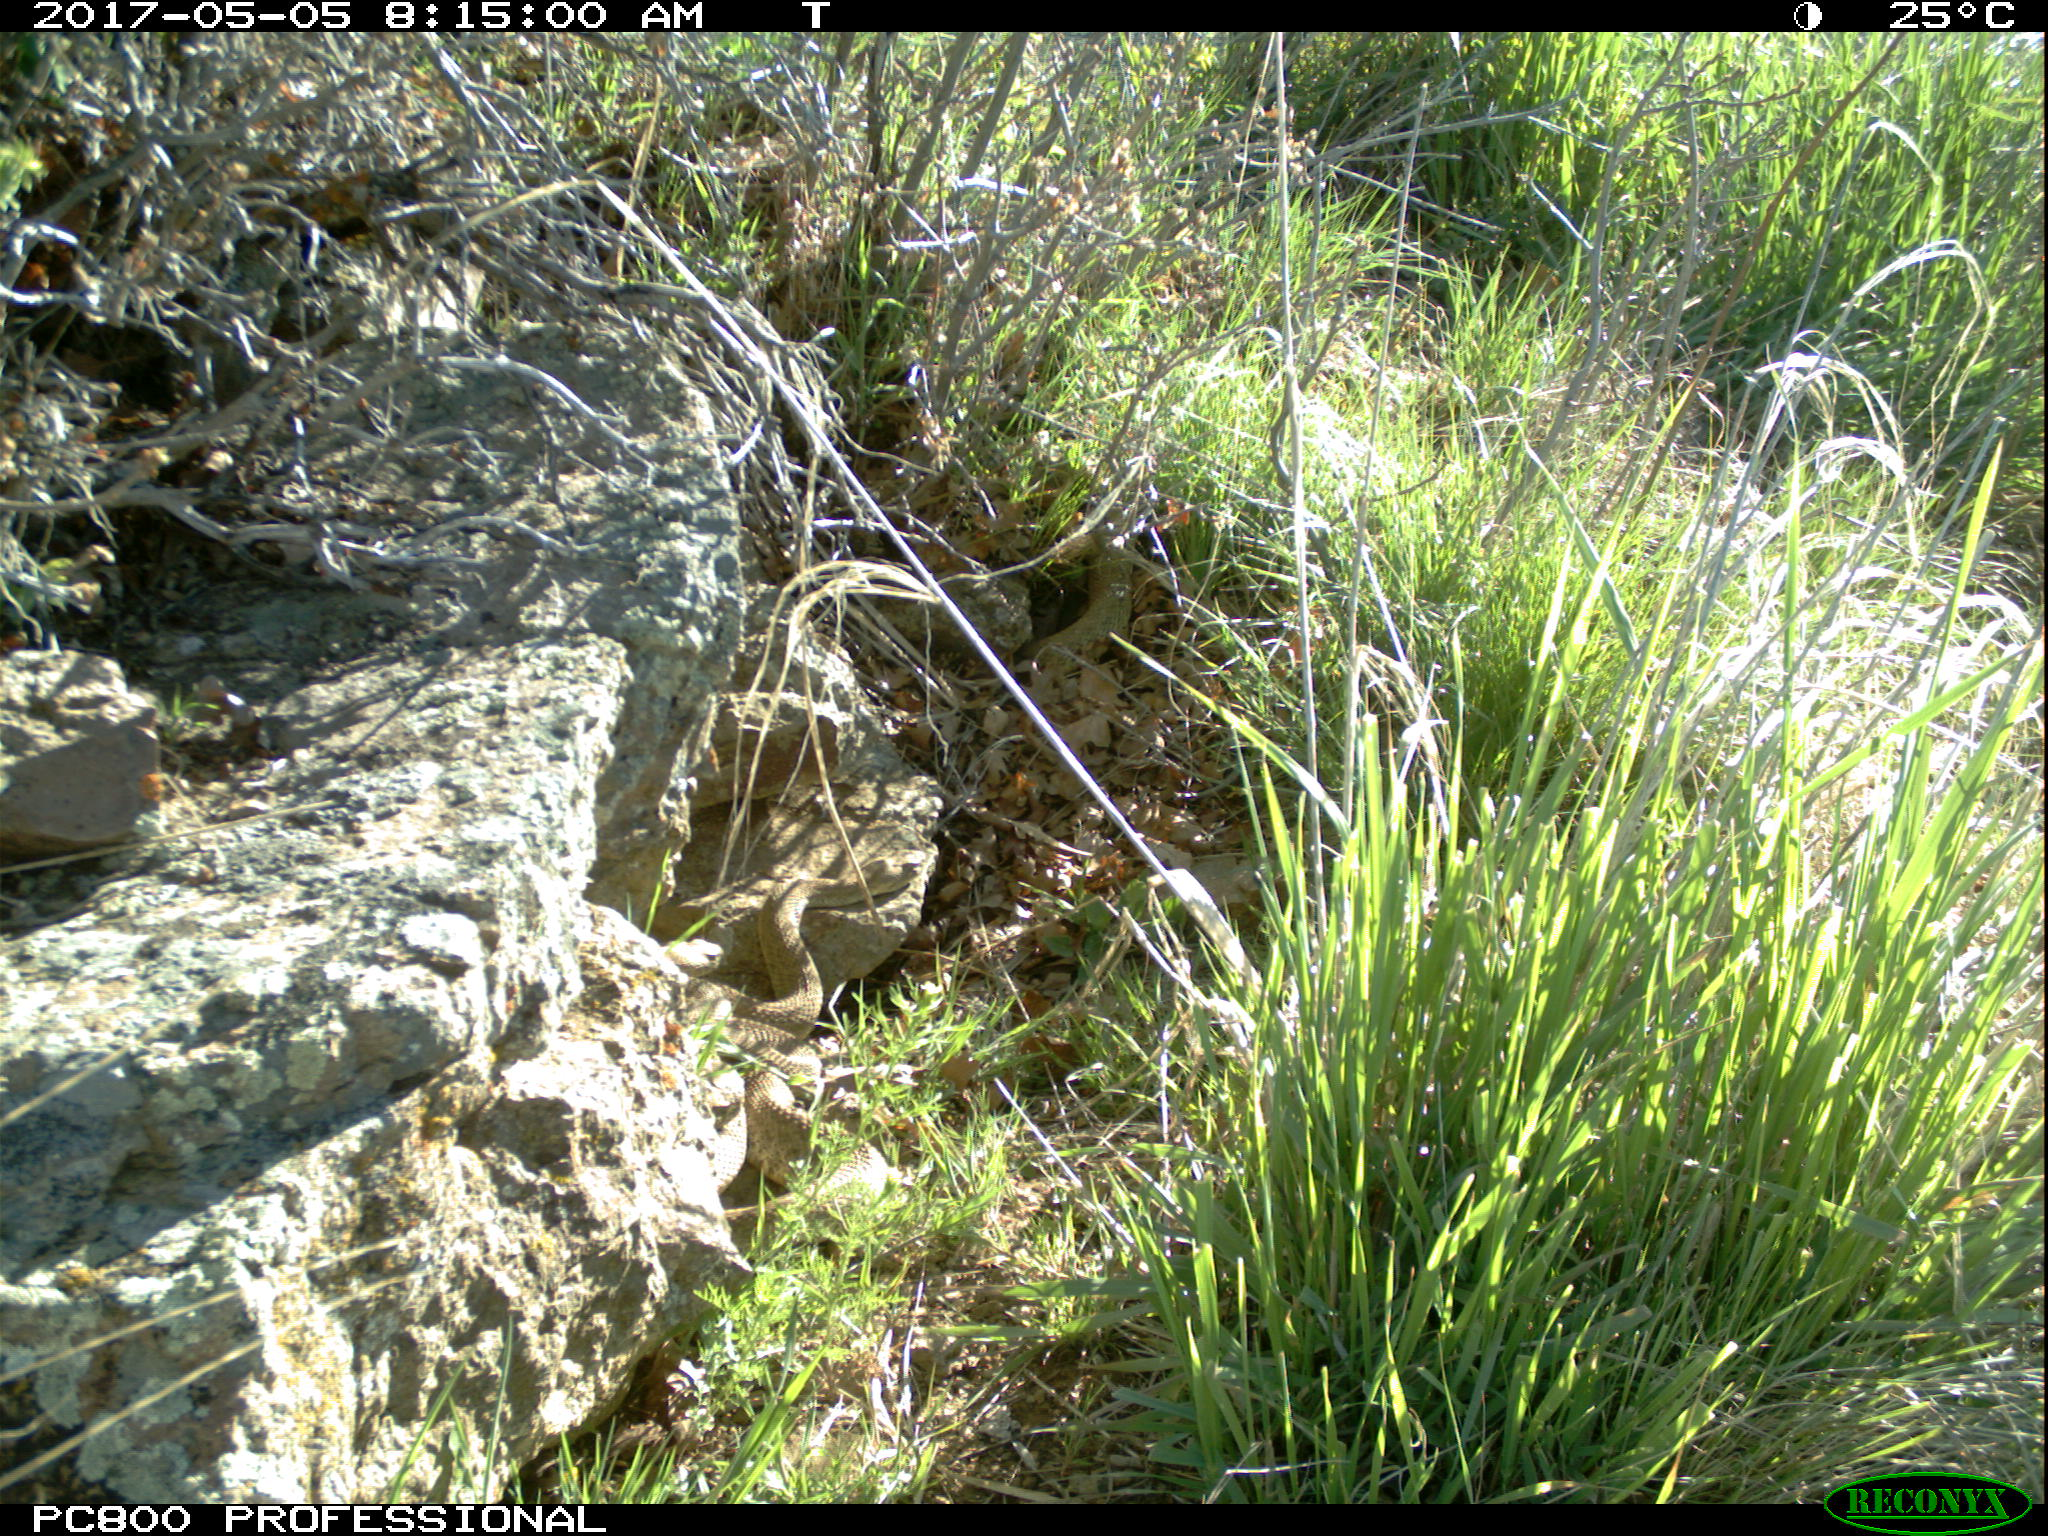snake: (698, 845, 924, 1229), (1024, 542, 1151, 668)
